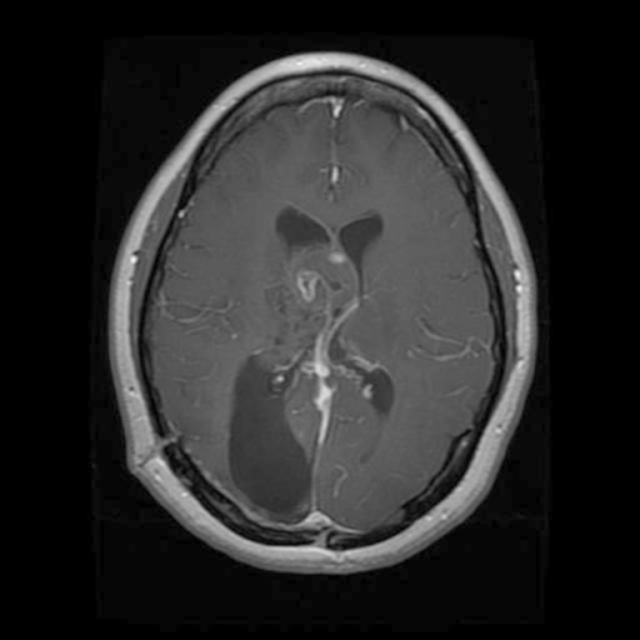pituitary tumor: (291, 245, 360, 320)
